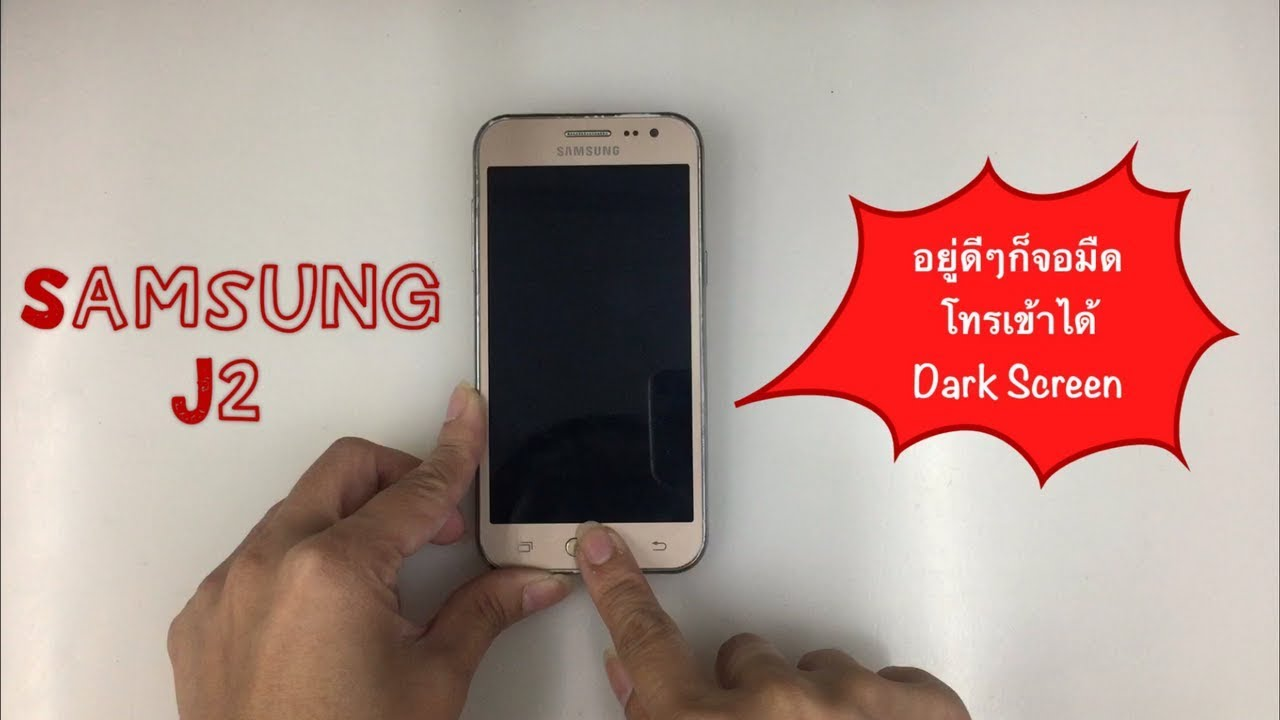Phone: (471, 110, 711, 577)
